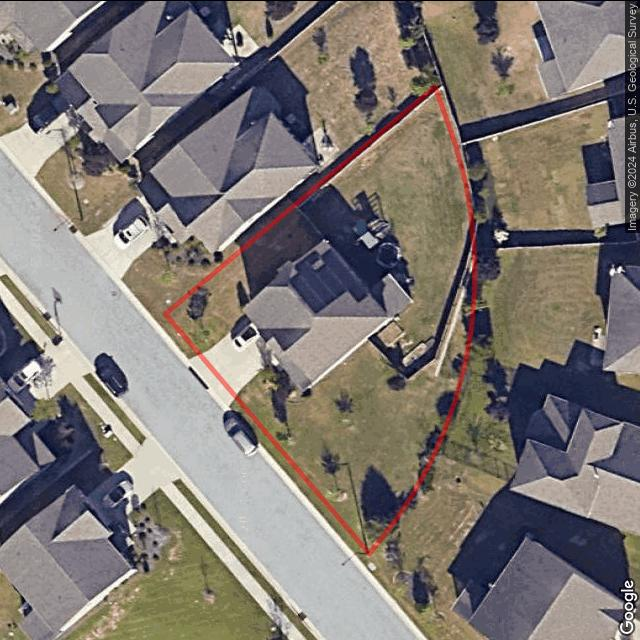Driveway: (201, 315, 282, 395)
Extra-Driveway: (186, 353, 237, 406)
Extra-Lawn: (229, 396, 369, 560), (159, 314, 201, 359)
House: (241, 237, 415, 393)
Lawn: (164, 83, 474, 554)
Other: (299, 181, 413, 302)
